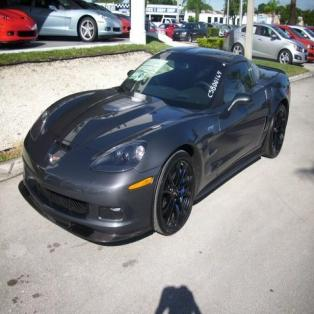Auto: (23, 51, 291, 244)
